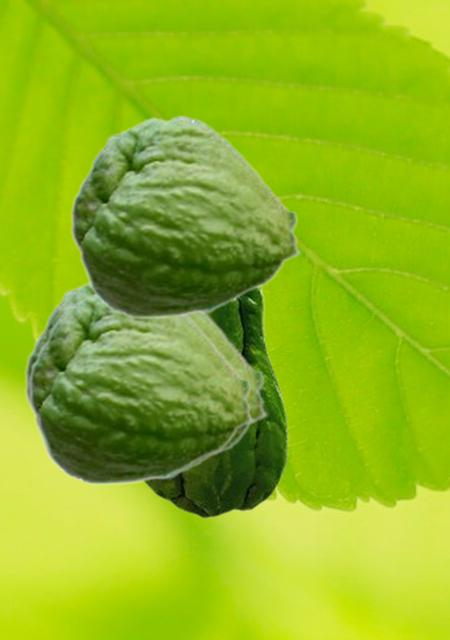sayote: (24, 279, 269, 485), (70, 114, 302, 319), (28, 292, 255, 485), (142, 287, 288, 518)
